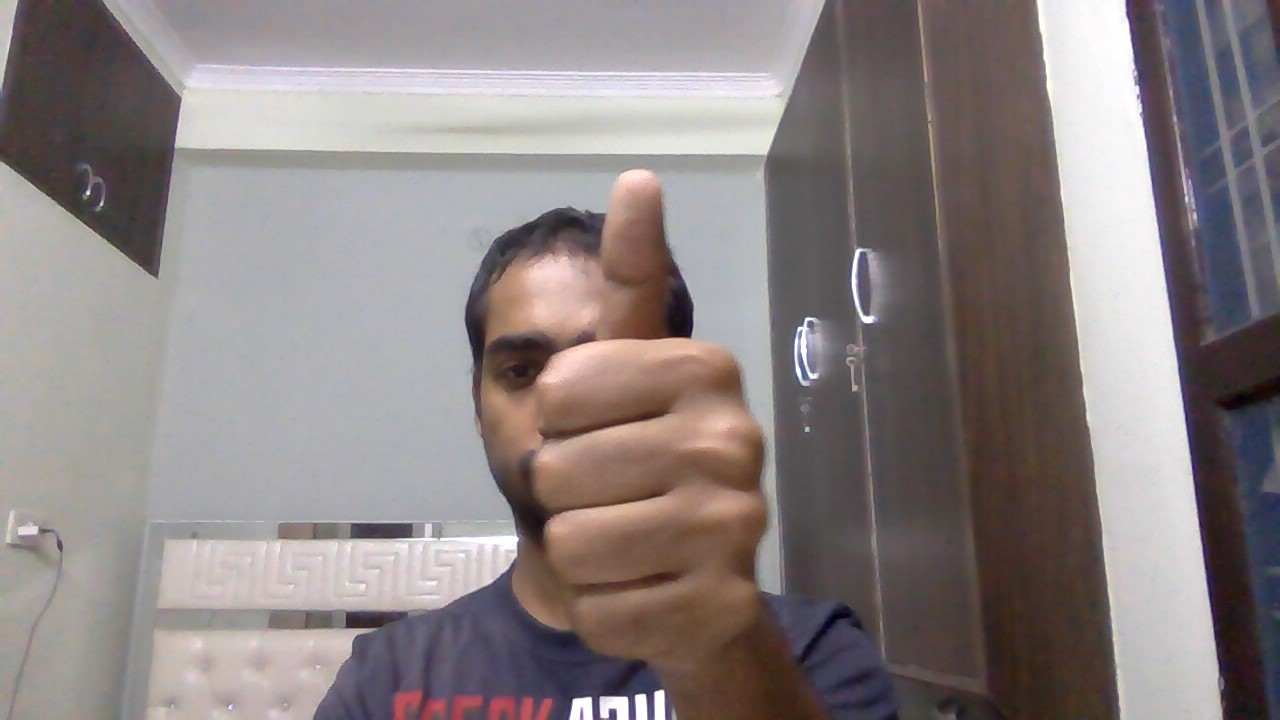Save: (521, 153, 802, 667)
